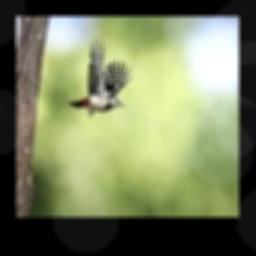Woodpecker: (69, 35, 133, 116)
